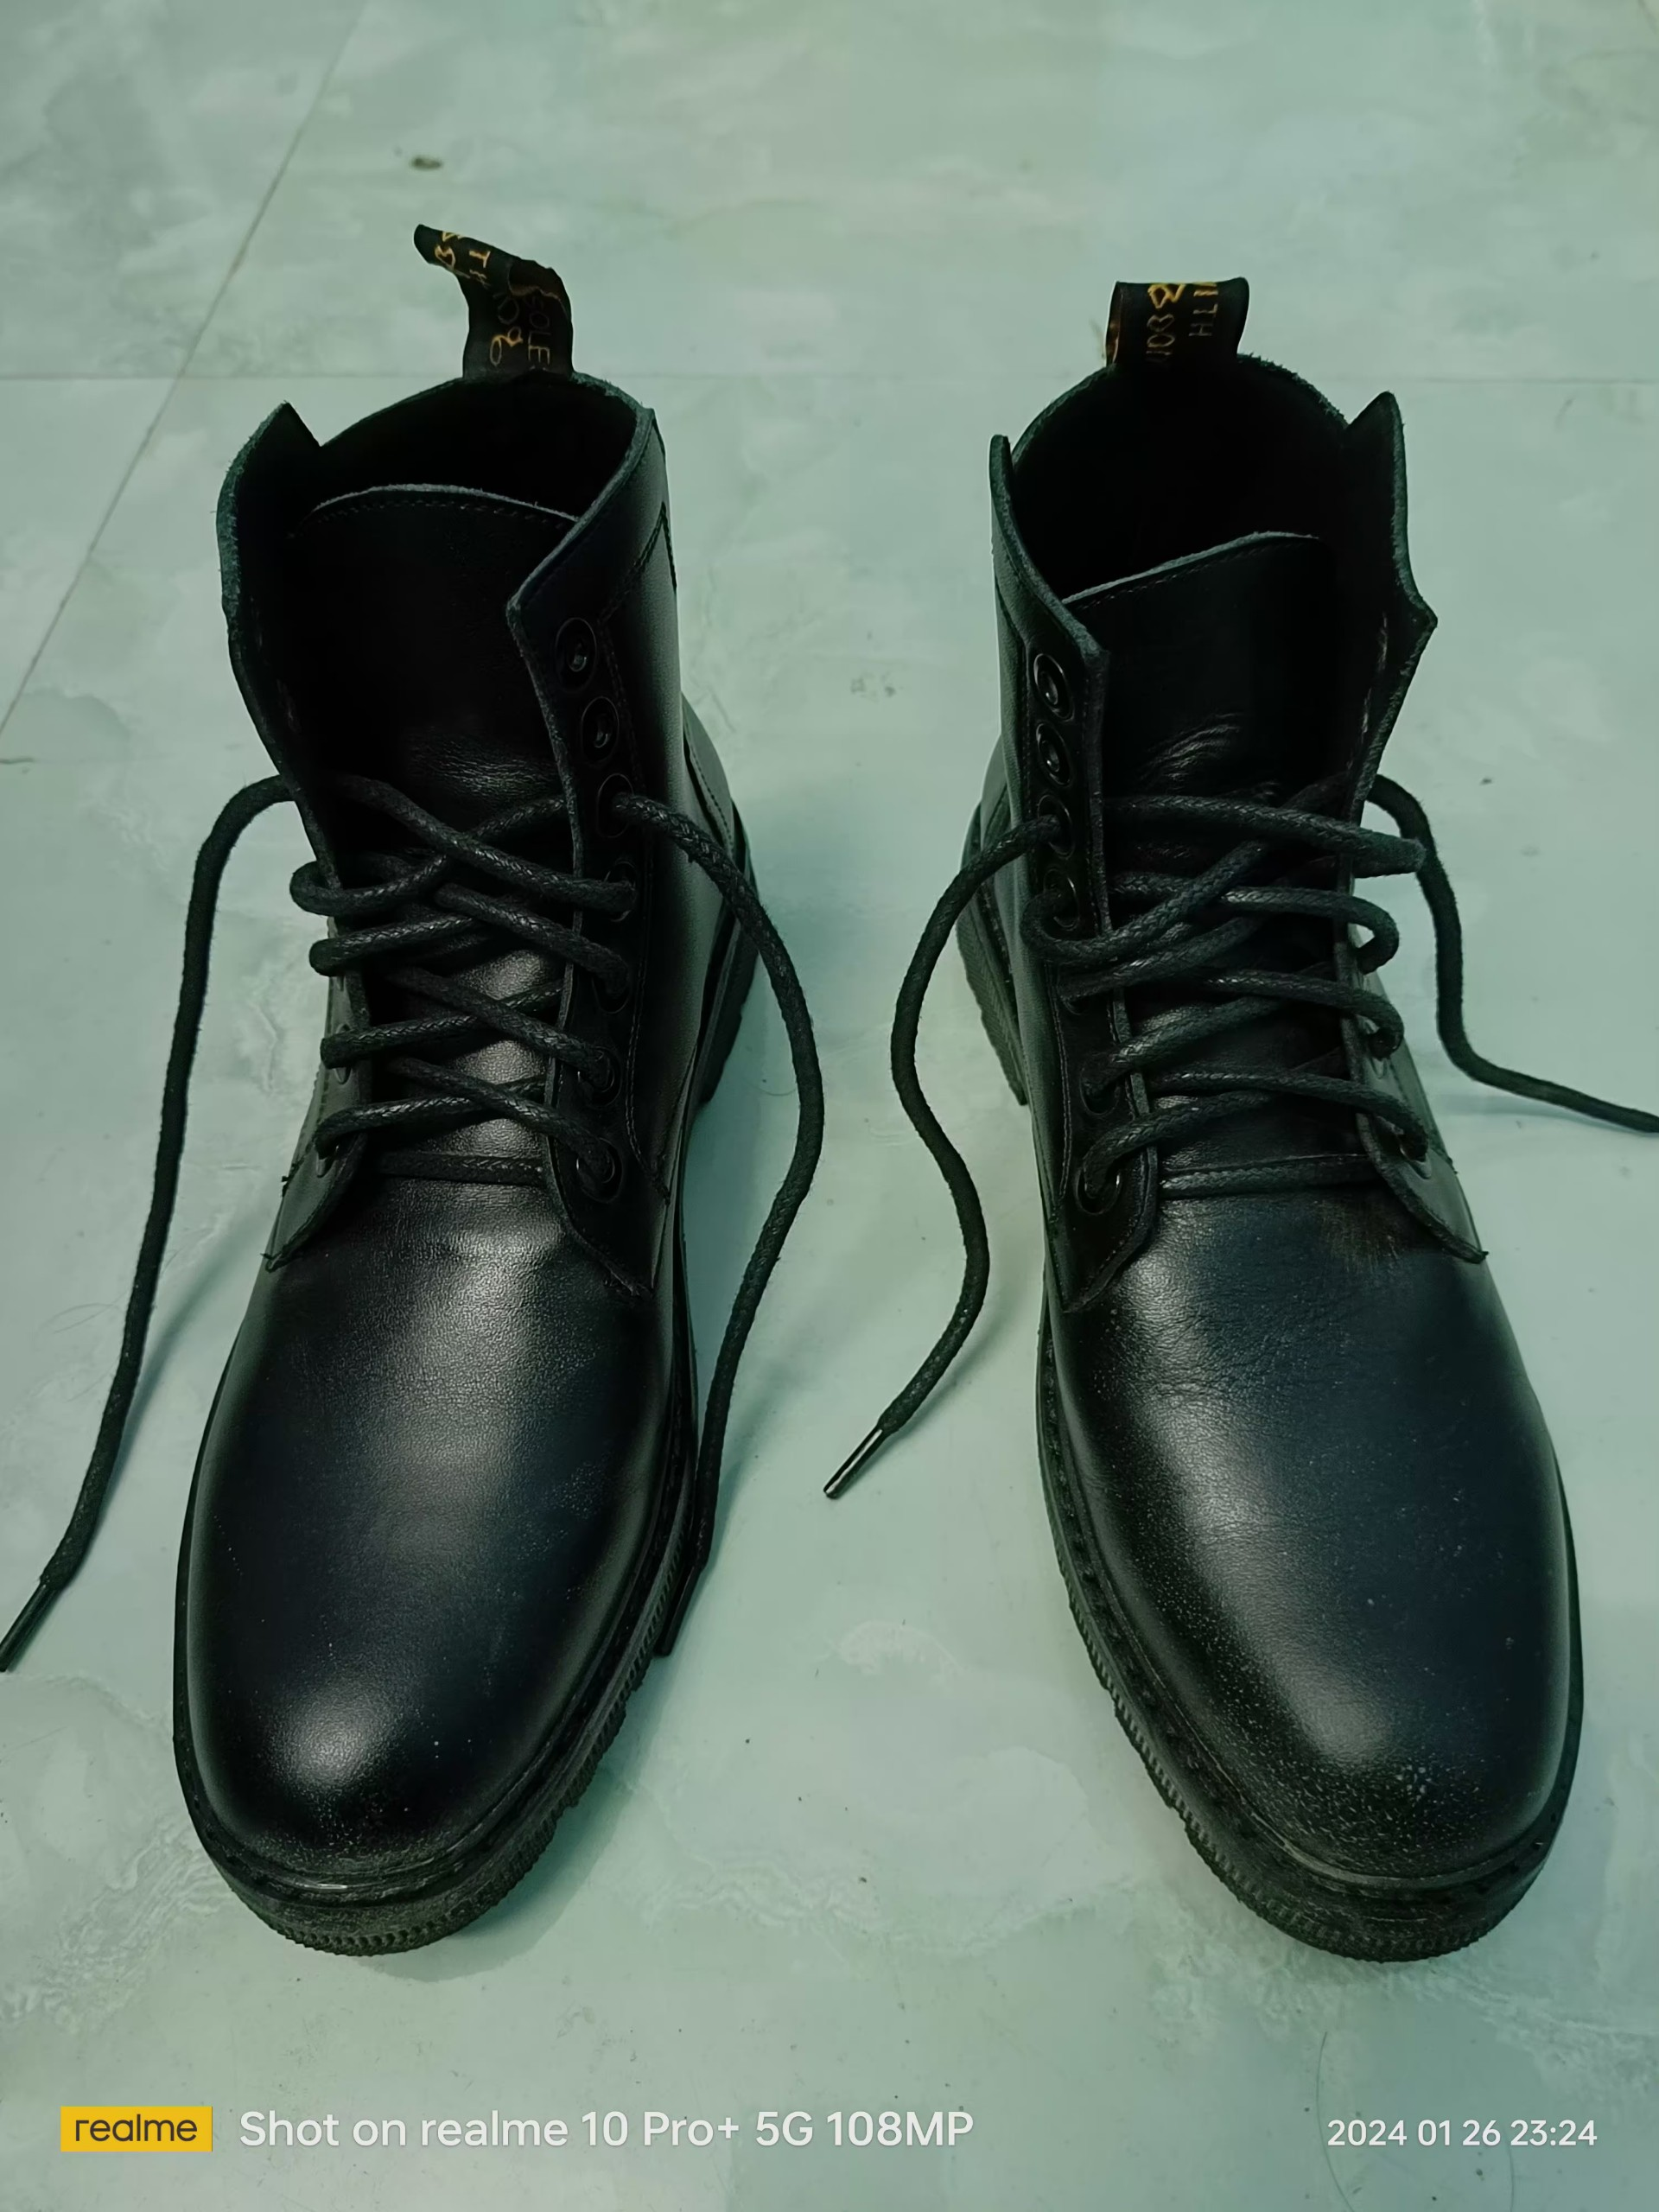boots: (945, 263, 1603, 1973), (153, 218, 755, 1965)
